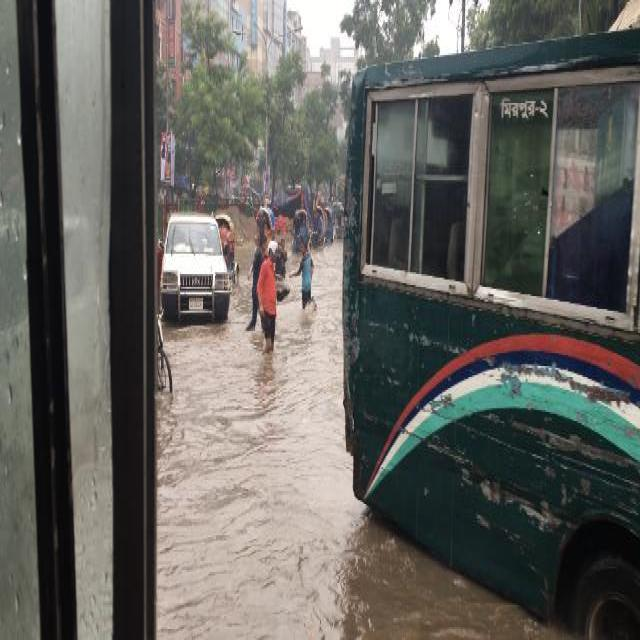bus: (339, 20, 638, 629)
car: (160, 206, 233, 322)
motorcycle: (252, 201, 274, 239), (290, 202, 308, 248), (309, 200, 327, 243)
